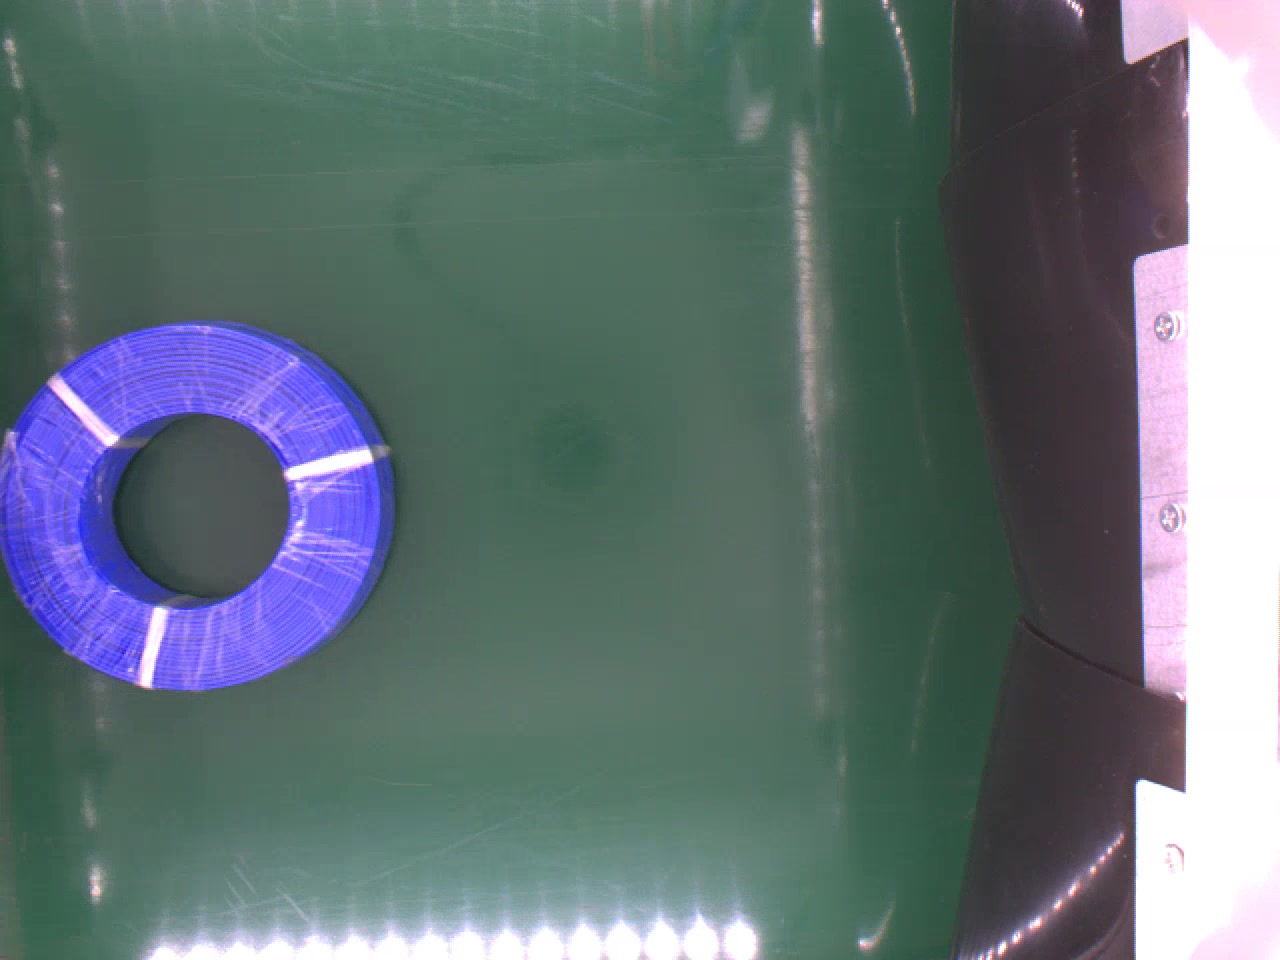blue: (0, 318, 399, 693)
